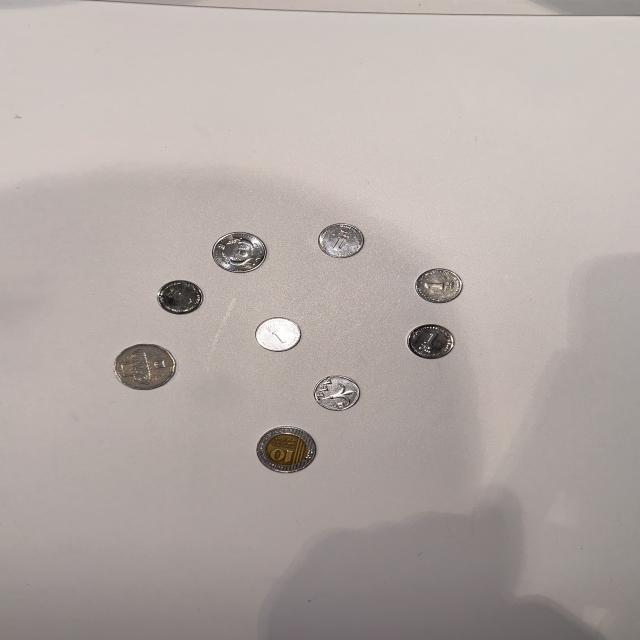1-shekel: (316, 220, 372, 264), (398, 324, 466, 360), (152, 280, 214, 318), (252, 321, 309, 360), (419, 265, 466, 306), (309, 373, 360, 410)
10-shekel: (250, 422, 327, 481)
2-shekel: (212, 230, 270, 275)
5-shekel: (106, 344, 185, 398)
